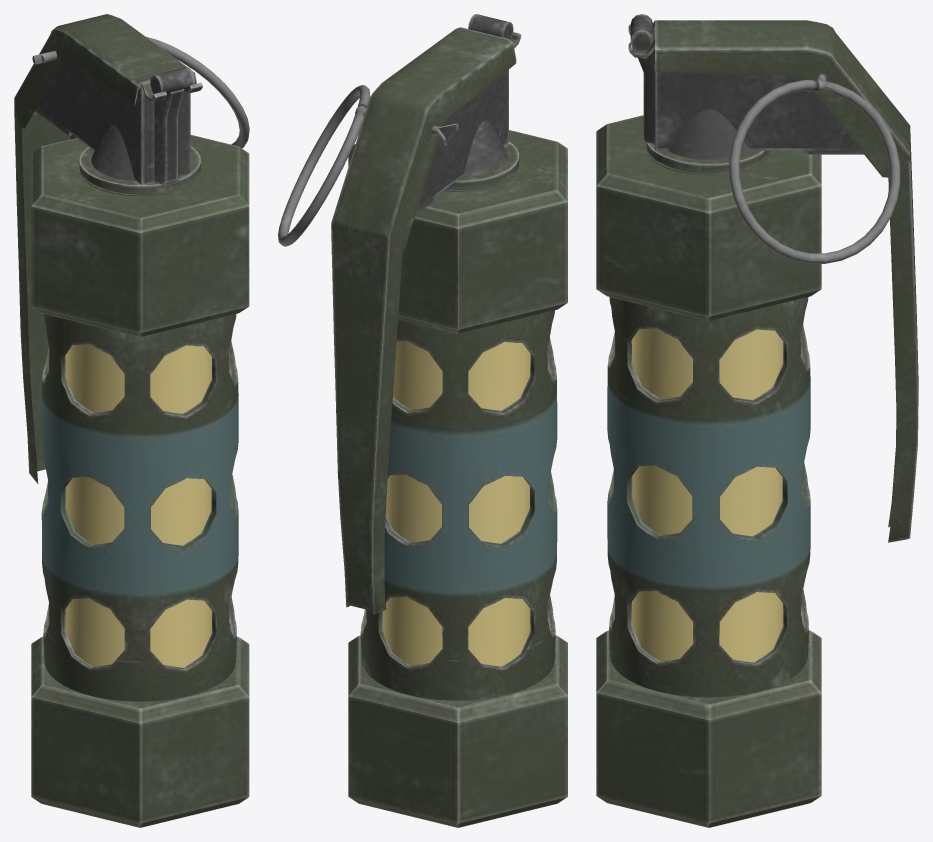
The model's file is flash.glb.
The picture shows the model from 3 angles, left to right: view 1: azimuth 30°, elevation 25°; view 2: azimuth 150°, elevation 25°; view 3: azimuth 270°, elevation 25°; orthographic projection. The views are drawn at different scales.
Parts seen in each view (by area): view 1: Flashbang, Pin; view 2: Flashbang, Pin; view 3: Flashbang, Pin.
Part boxes in pixels (box(x1,y1,x2,y2)): Flashbang: box(14, 14, 249, 827); Pin: box(32, 37, 249, 148); Flashbang: box(331, 14, 567, 827); Pin: box(278, 85, 458, 246); Flashbang: box(596, 14, 918, 827); Pin: box(729, 74, 900, 263).
Bounding box in the file's own units: 0.0418 × 0.1216 × 0.047.
1 material, 1 textured.
